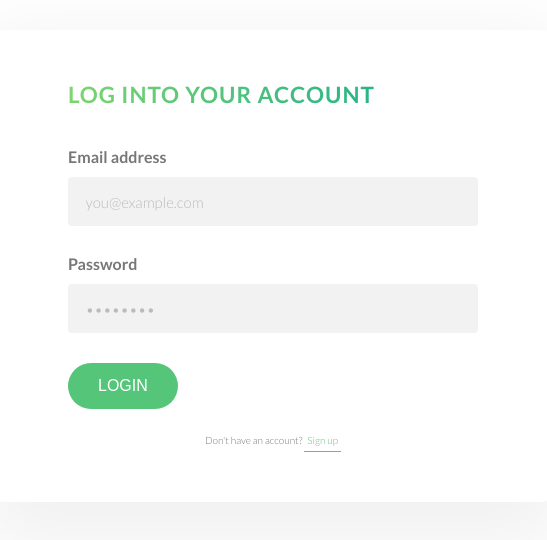
Test: Login › displays error message when login fails
Type "test@example.com" into the field labelled "Email address" at (273, 202), box [68,177,478,226]
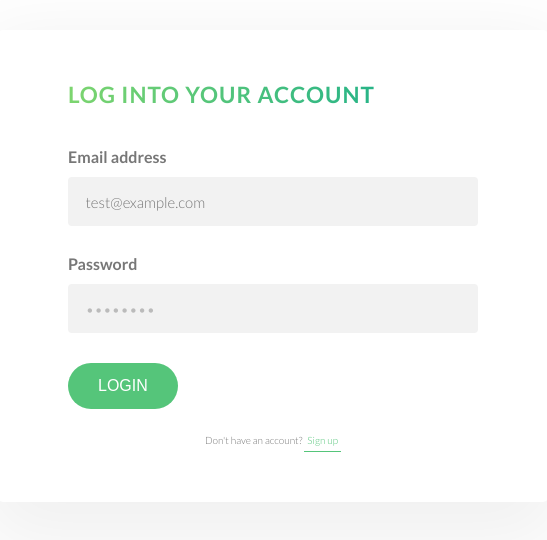
Type "wrongpassword" into the password field labelled "Password" at (273, 309), box [68,284,478,333]
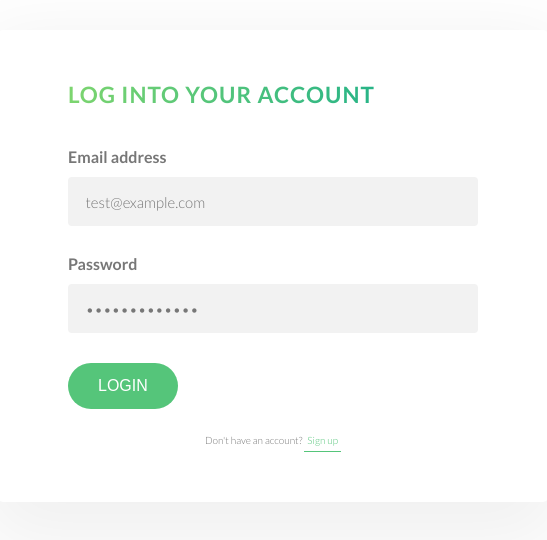
Click the button "Login" at (123, 386), box [68,363,178,409]
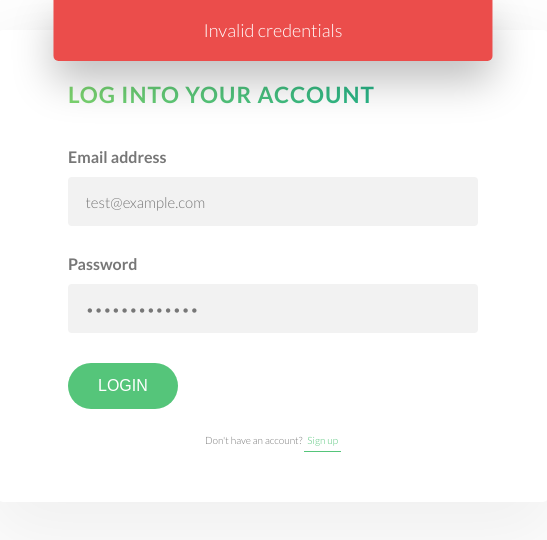
Expected: the text "Invalid credentials" is shown, [204,16,342,45]
